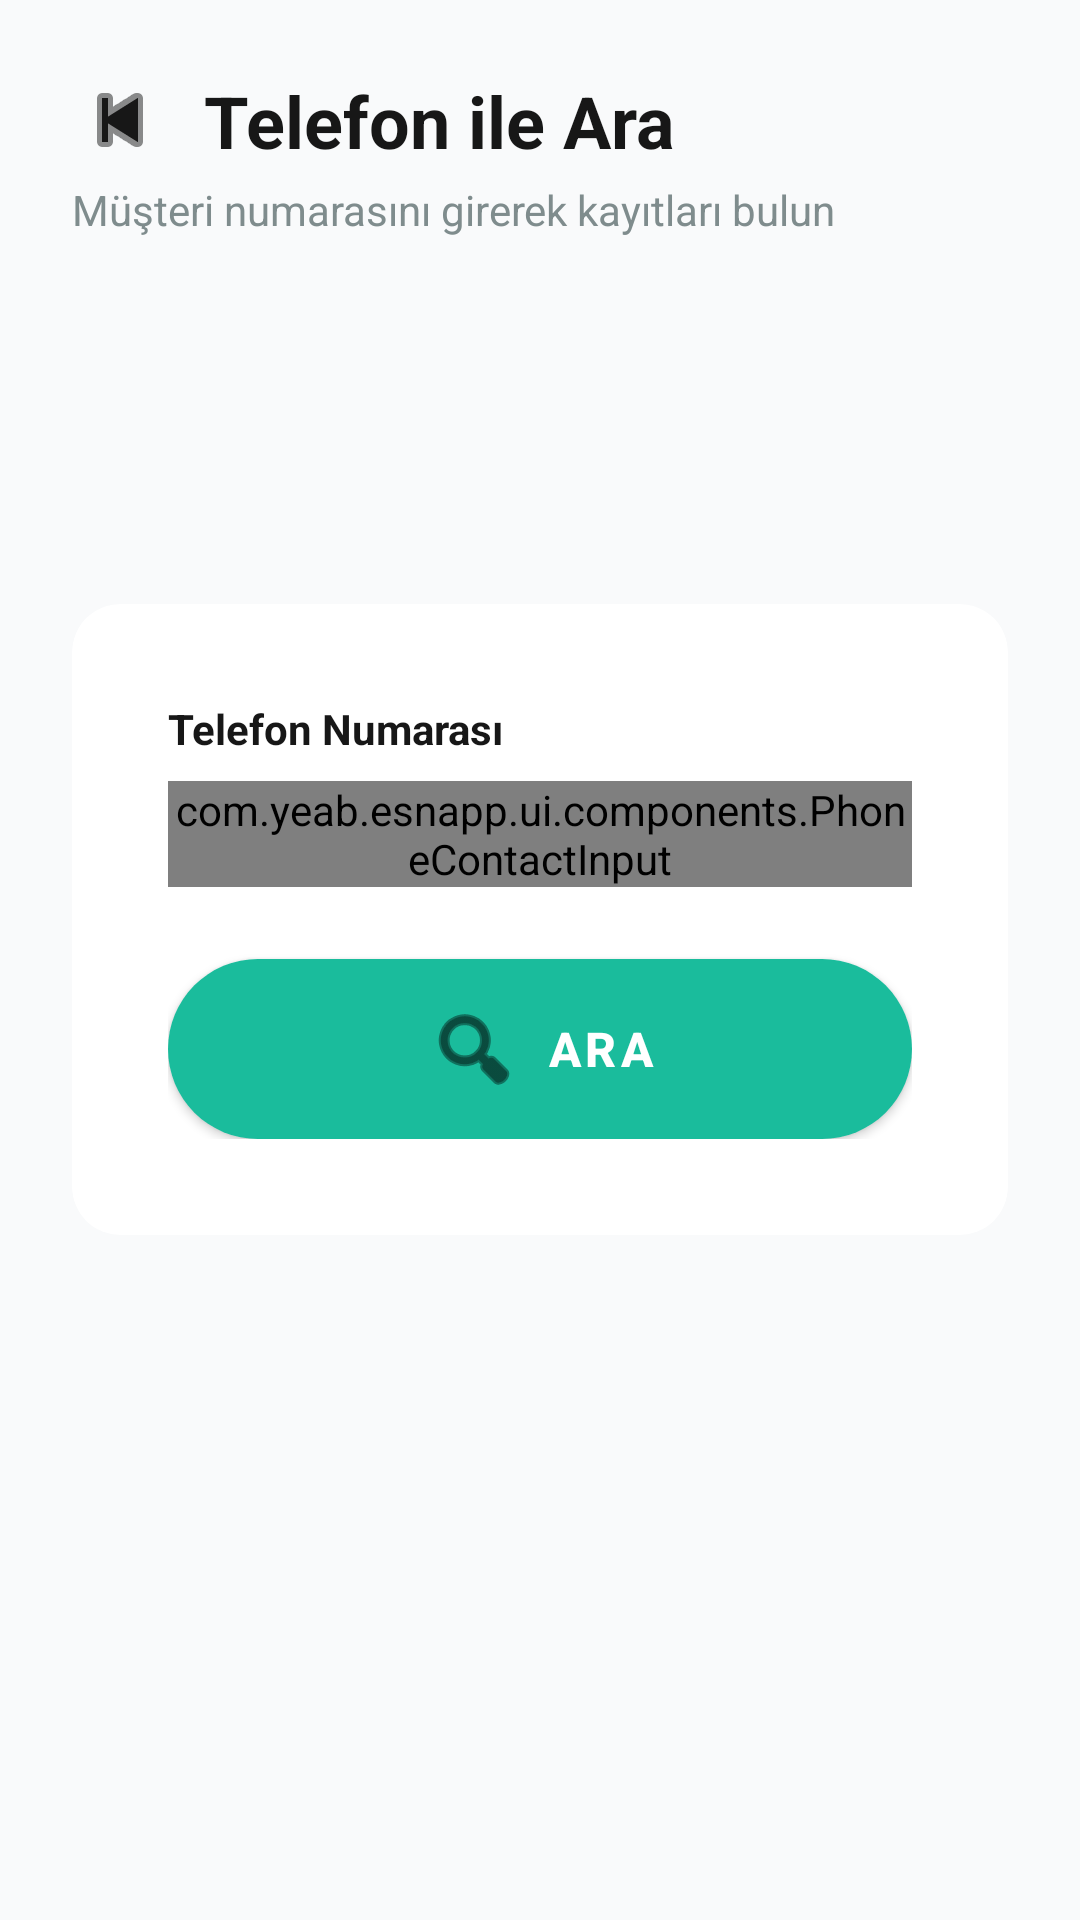

Icon click points for this 1080*1920 phone screenshot, format [x,y]:
Geri: [120,120]
